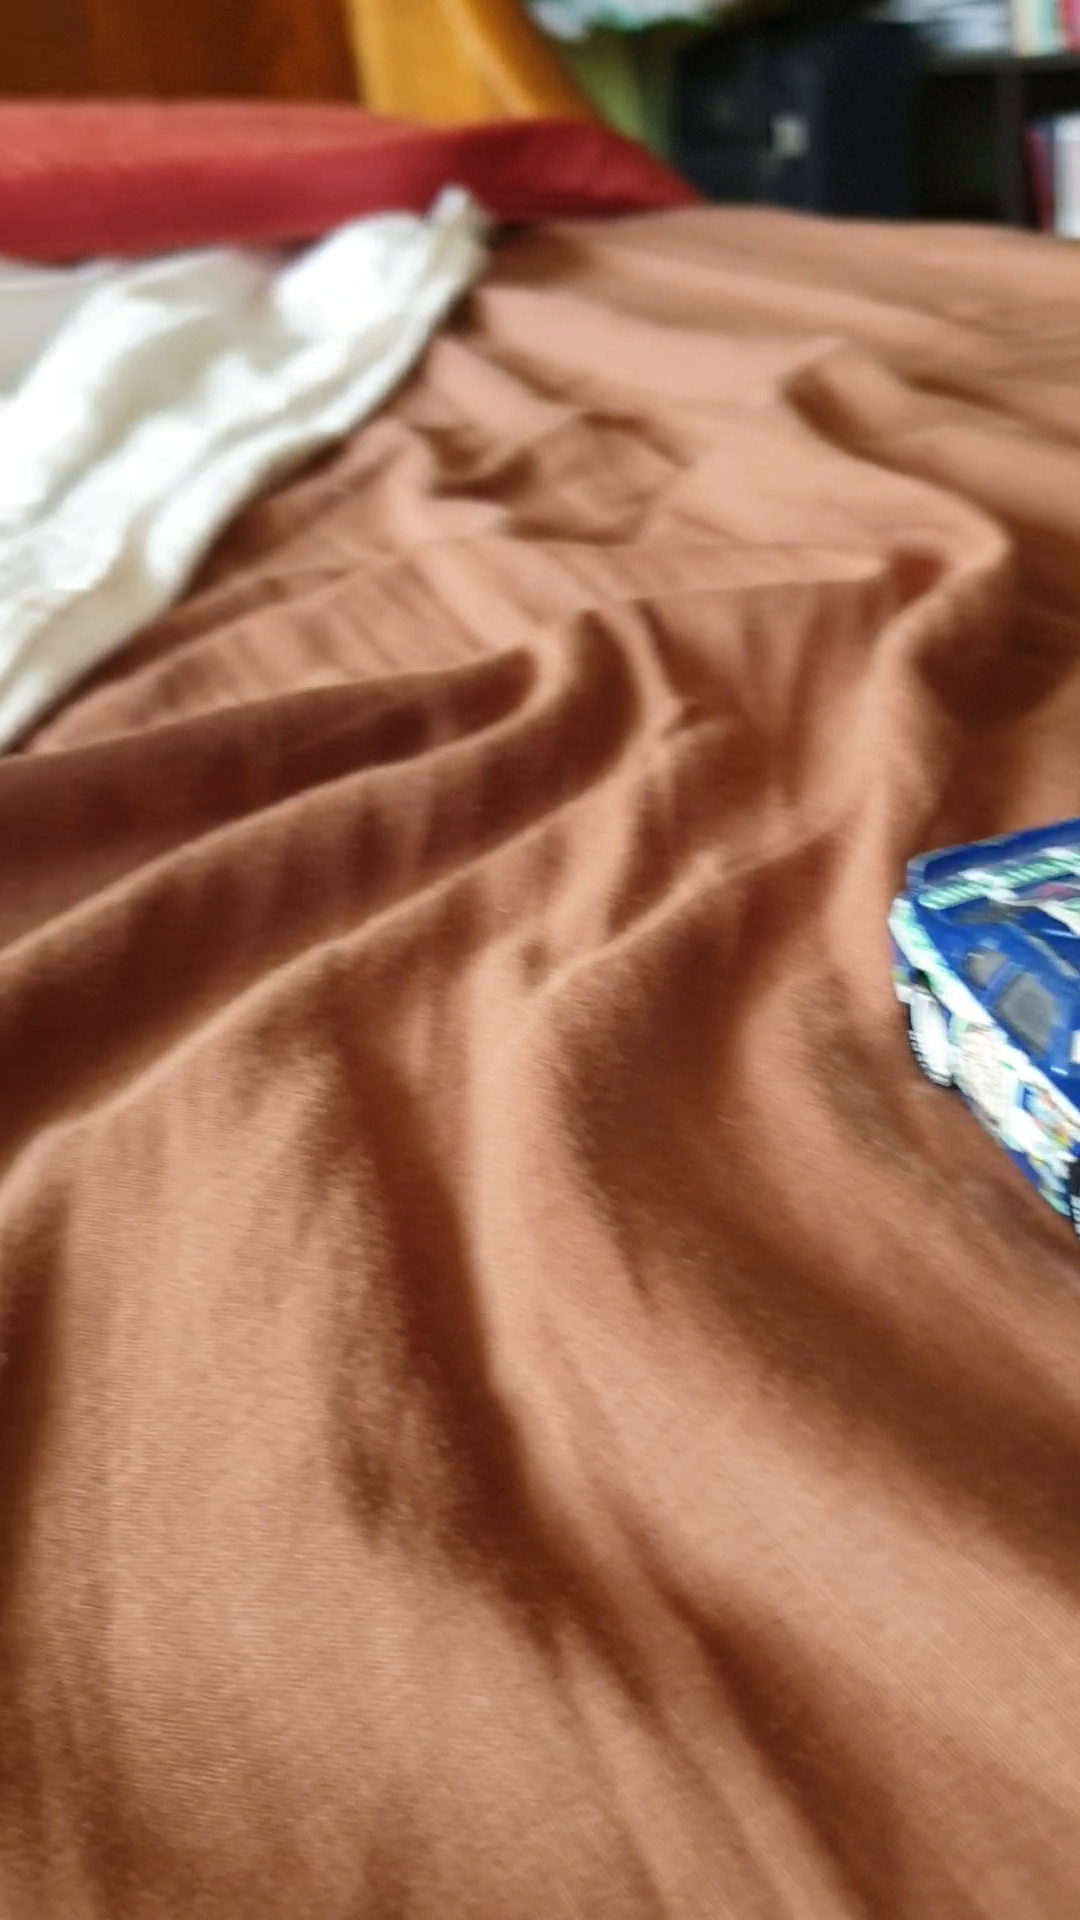cars: (895, 806, 1080, 1211)
